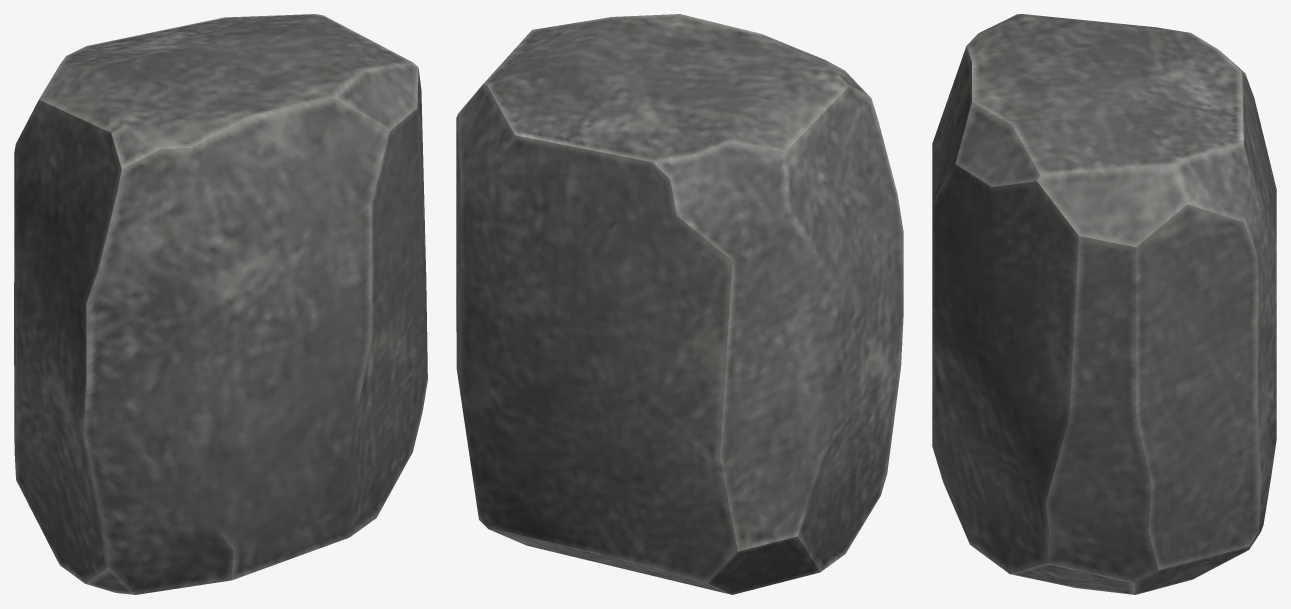
Rendered from Rock08_Dream.glb.
3 renders of one model, left to right at view 1: azimuth 30°, elevation 25°; view 2: azimuth 150°, elevation 25°; view 3: azimuth 270°, elevation 25°, orthographic.
Parts seen in each view (by area): view 1: rock08_dream; view 2: rock08_dream; view 3: rock08_dream.
Part boxes in pixels (x1,y1,x2,y2): rock08_dream: (14,14,427,594); rock08_dream: (456,14,903,594); rock08_dream: (932,14,1276,594).
Size of the model in its own units: 0.5326 by 0.6248 by 0.4264.
Materials: 1 (1 with a texture image).
